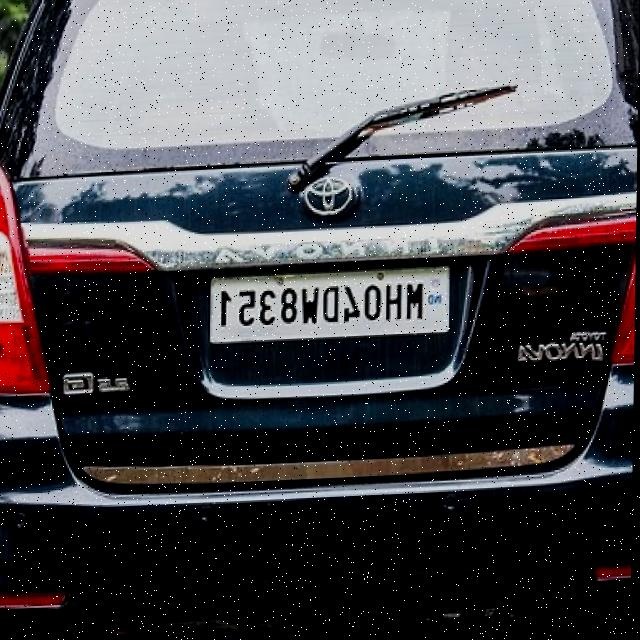plate: (212, 275, 450, 342)
